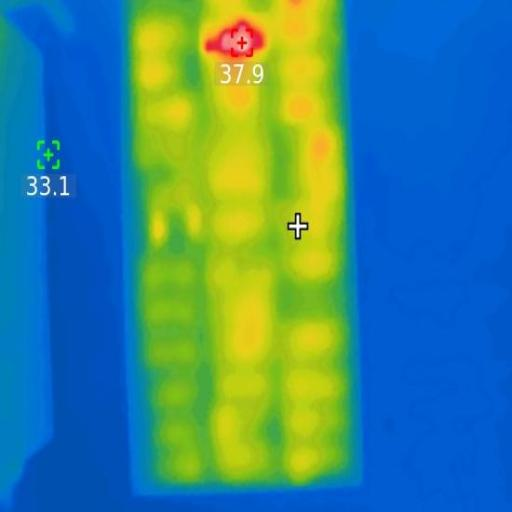hotspot: (207, 30, 265, 54)
